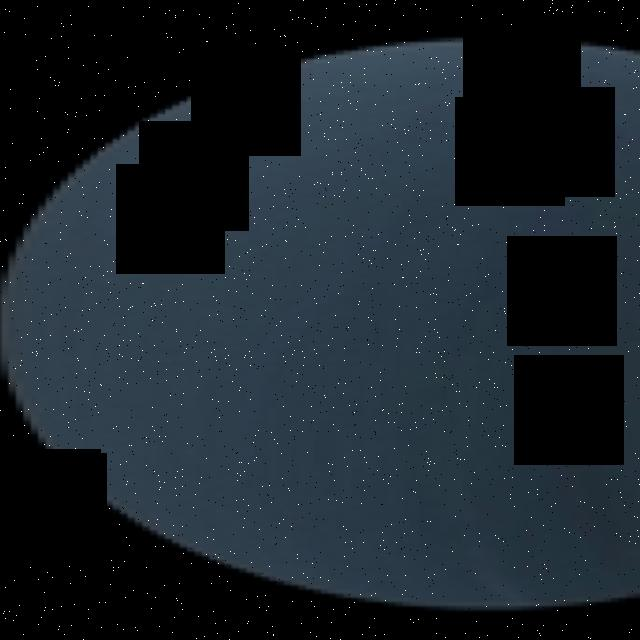Uranus: (0, 33, 640, 614)
